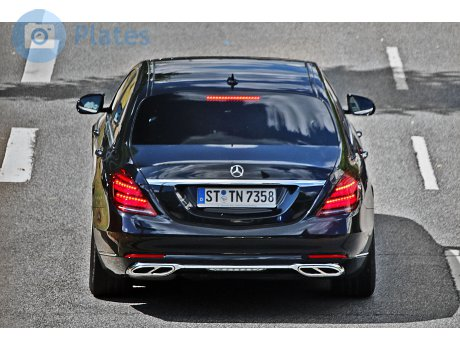License Plates: (204, 188, 277, 205)
